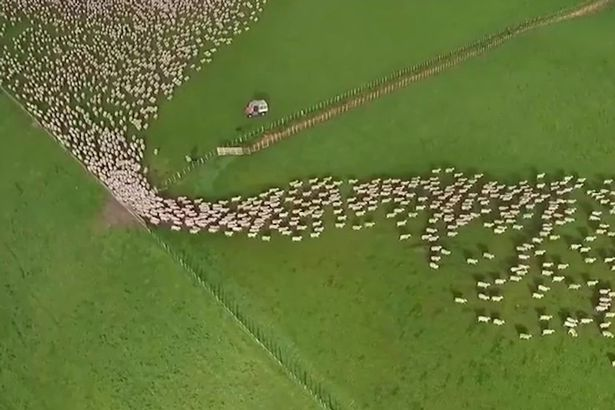sheep: (476, 315, 492, 324), (477, 280, 491, 290), (539, 313, 554, 322), (453, 297, 469, 305), (557, 263, 573, 271), (537, 284, 551, 293), (515, 244, 529, 253), (587, 214, 601, 223), (563, 321, 578, 329), (477, 293, 490, 302), (581, 317, 594, 326), (599, 320, 612, 329), (569, 283, 582, 292), (587, 279, 600, 288), (598, 288, 611, 297), (440, 248, 453, 257), (291, 206, 304, 215), (541, 261, 555, 269), (568, 242, 582, 250), (492, 294, 504, 303), (431, 244, 443, 253), (581, 246, 593, 255), (364, 220, 376, 229), (542, 328, 555, 336), (583, 256, 596, 264), (585, 235, 598, 243), (594, 228, 607, 236), (415, 204, 428, 212), (551, 277, 568, 283), (429, 262, 440, 271), (568, 329, 579, 338), (556, 218, 567, 227), (532, 293, 546, 300), (483, 252, 495, 260), (520, 332, 532, 340), (518, 253, 531, 260), (429, 256, 442, 263), (511, 224, 524, 231), (392, 207, 405, 214), (333, 222, 346, 229), (292, 235, 305, 242), (334, 207, 344, 216), (468, 257, 479, 265), (592, 210, 603, 218), (541, 213, 552, 221), (481, 207, 492, 215), (297, 223, 308, 231), (332, 178, 343, 186), (495, 278, 507, 285), (510, 275, 522, 282), (535, 249, 547, 256), (397, 220, 409, 227), (447, 231, 459, 238), (523, 212, 535, 219), (477, 195, 489, 202), (309, 231, 321, 238), (308, 176, 320, 183), (399, 234, 412, 240), (446, 224, 459, 230), (484, 222, 495, 229), (532, 237, 543, 244), (536, 183, 547, 190), (347, 177, 358, 184), (311, 197, 322, 204), (380, 189, 391, 196), (604, 178, 613, 186), (498, 206, 510, 212), (445, 167, 457, 173), (355, 211, 367, 217), (302, 190, 314, 196), (394, 197, 406, 203), (550, 234, 560, 241), (537, 172, 547, 179), (600, 198, 610, 205), (386, 213, 396, 220), (576, 177, 587, 183), (506, 184, 517, 190), (457, 188, 468, 194), (346, 196, 357, 202), (311, 220, 322, 226), (368, 206, 379, 212), (381, 197, 392, 203), (475, 172, 484, 179), (290, 188, 299, 195), (382, 177, 391, 184), (418, 196, 428, 202), (279, 212, 289, 218), (420, 179, 430, 185), (462, 206, 472, 212), (431, 169, 442, 174), (325, 184, 336, 189), (564, 176, 573, 182), (289, 179, 298, 185), (294, 198, 303, 204), (431, 204, 440, 210), (519, 180, 529, 185), (282, 230, 292, 235), (392, 179, 402, 184), (433, 192, 443, 197), (526, 205, 538, 209), (402, 180, 410, 186)
